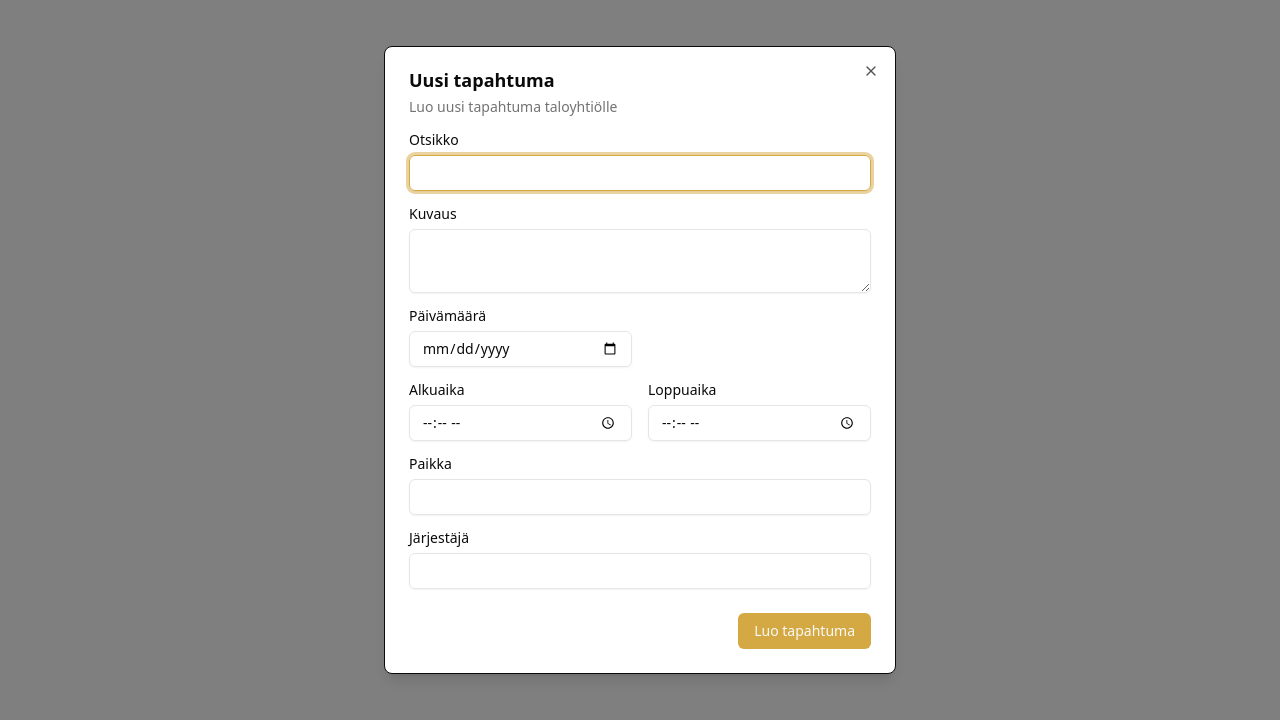
Test: EventFormDialog › shows validation errors when submitting empty form
The width and height of the screenshot is (1280, 720).
Step 1. Click the button "Luo tapahtuma" → (805, 631), box [738,613,871,649]
(page scrolled)
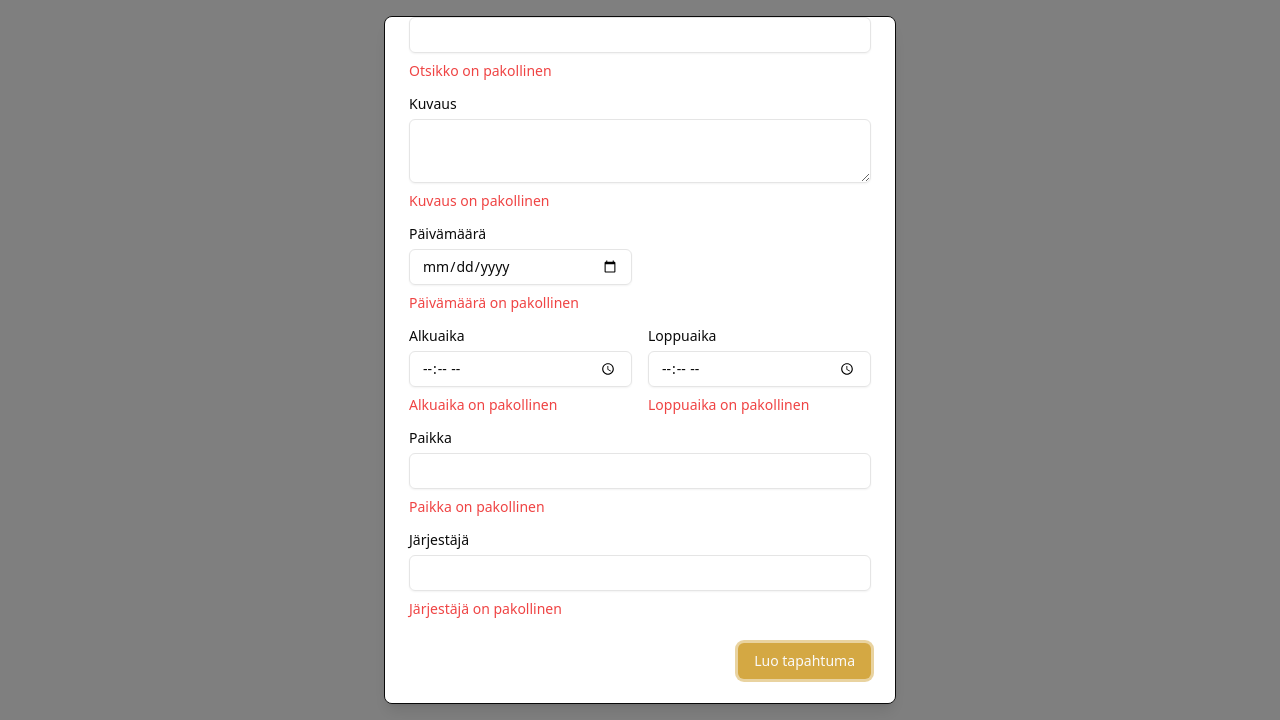
expect the text "Otsikko on pakollinen" is shown: met, box [409,61,552,80]
expect the text "Kuvaus on pakollinen" is shown: met, box [409,191,550,210]
expect the text "Päivämäärä on pakollinen" is shown: met, box [409,293,579,312]
